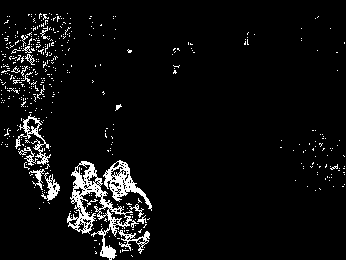person: (100, 158, 152, 260), (67, 159, 116, 260), (15, 115, 61, 201)
